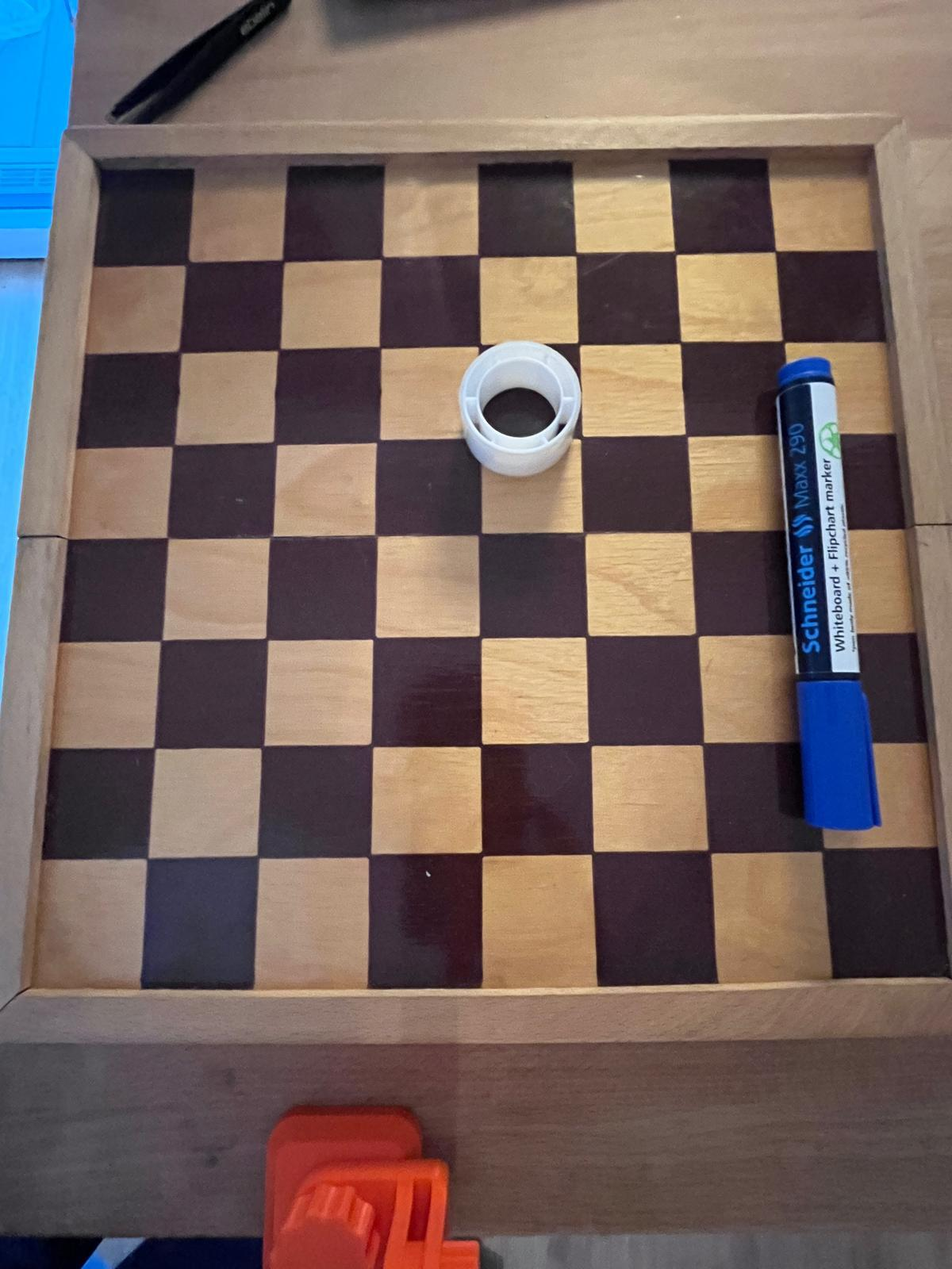marker: (763, 357, 889, 841)
tape: (459, 338, 589, 477)
